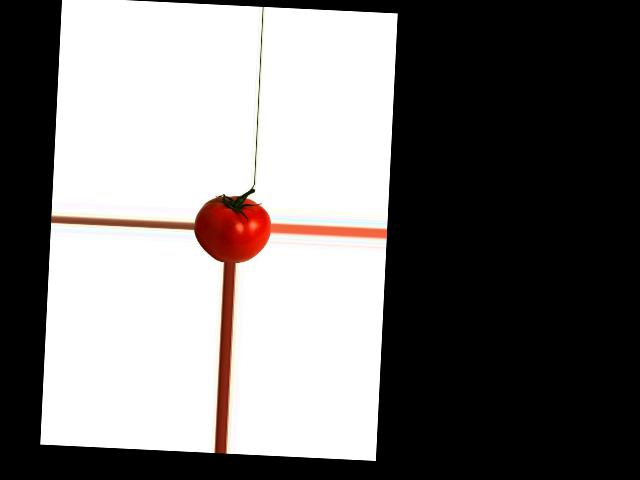tomato: (192, 193, 272, 263)
